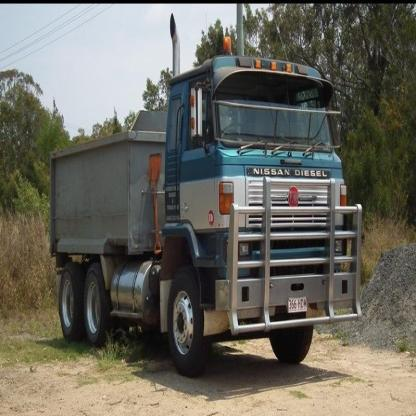dump_truck: (41, 11, 368, 378)
